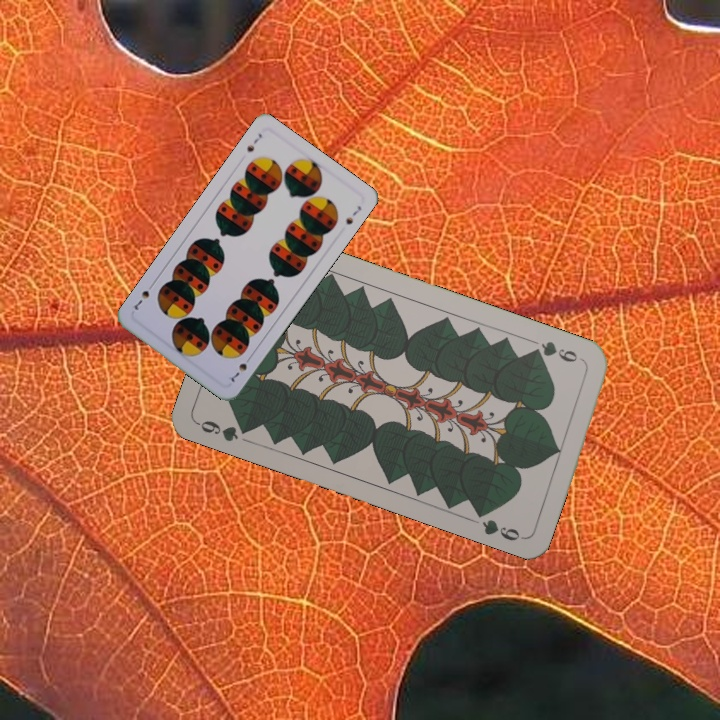G9: (194, 416, 255, 445), (527, 337, 587, 366)
S7: (227, 351, 255, 385), (243, 129, 265, 155)
